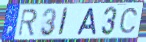3: (100, 6, 118, 37), (40, 7, 58, 38)
A: (75, 7, 97, 36)
C: (118, 7, 139, 35)
I: (57, 6, 70, 37)
R: (17, 8, 39, 38)
